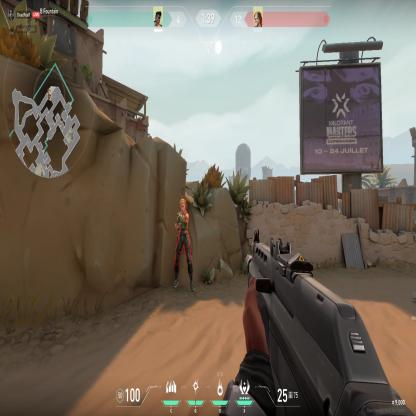enemy: (172, 196, 194, 292)
